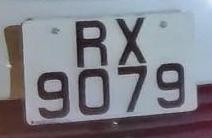0: (71, 65, 118, 119)
7: (111, 61, 156, 118)
9: (31, 63, 74, 126), (153, 58, 190, 113)
R: (70, 13, 116, 73)
X: (112, 12, 154, 68)
